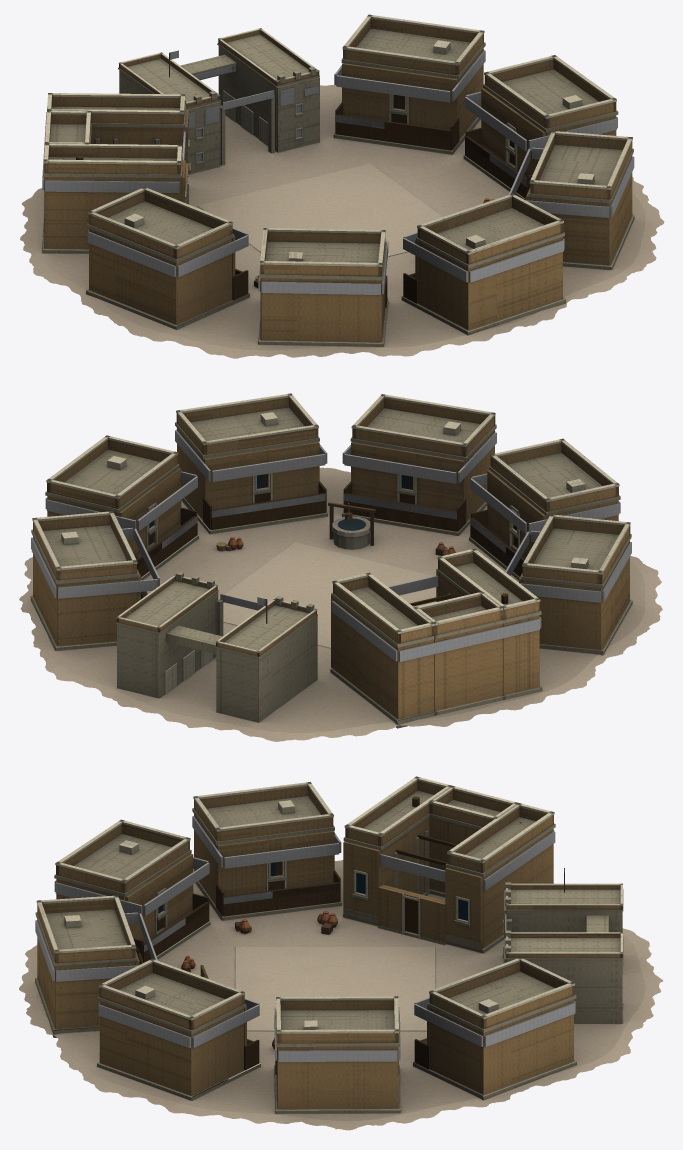
Rendered from bronze-town-small-a-israelite.glb.
3 views of the same model, one above another, from view 1: azimuth 30°, elevation 25°; view 2: azimuth 150°, elevation 25°; view 3: azimuth 270°, elevation 25° (orthographic).
Parts seen in each view (by area): view 1: LOD0; view 2: LOD0; view 3: LOD0.
Part boxes in pixels (box(x1,y1,x2,y2)): LOD0: box(20, 14, 664, 358); LOD0: box(19, 393, 662, 741); LOD0: box(19, 776, 663, 1130).
Size of what is drawn, in the model's own units: 3.98 by 0.6739 by 3.94.
Materials: 3 (3 with a texture image).
